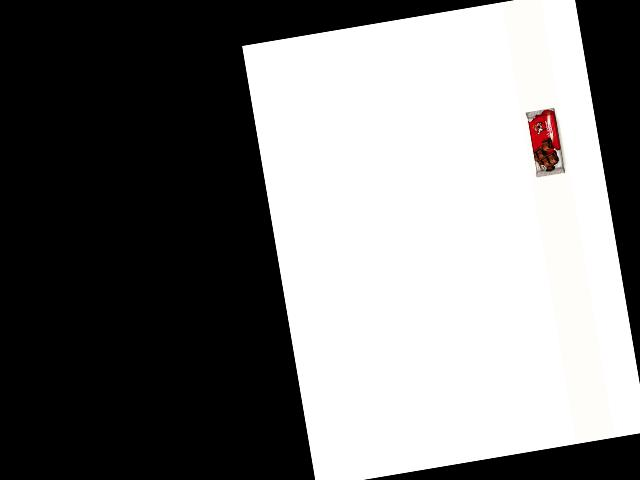chocolate: (527, 94, 580, 178)
